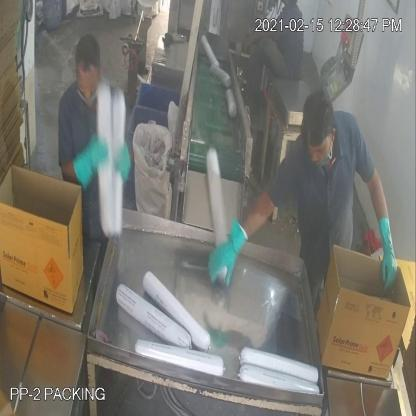glove: (206, 204, 252, 299), (374, 206, 405, 300), (67, 130, 111, 191)
